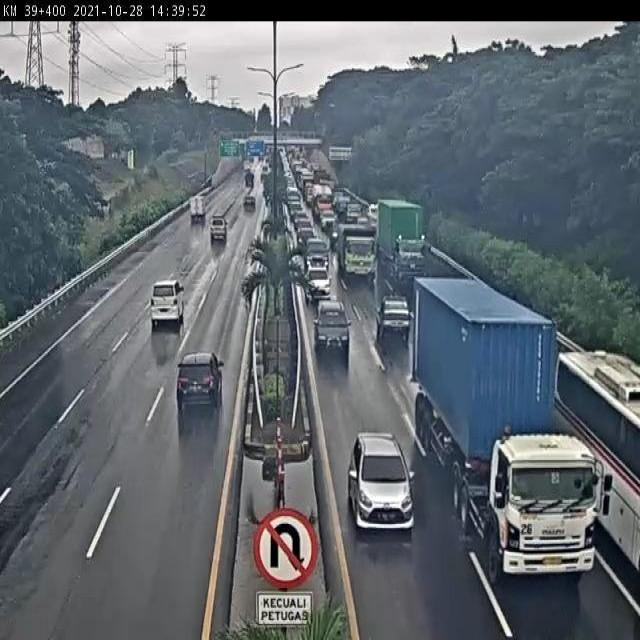big truck: (413, 272, 609, 577), (377, 200, 427, 273), (337, 224, 374, 277)
car: (347, 430, 415, 530), (176, 352, 225, 405), (313, 297, 352, 352), (374, 294, 412, 342), (150, 278, 185, 326), (302, 232, 327, 263), (304, 259, 329, 285), (208, 219, 226, 245), (295, 226, 314, 246)
small truck: (187, 194, 208, 227)
